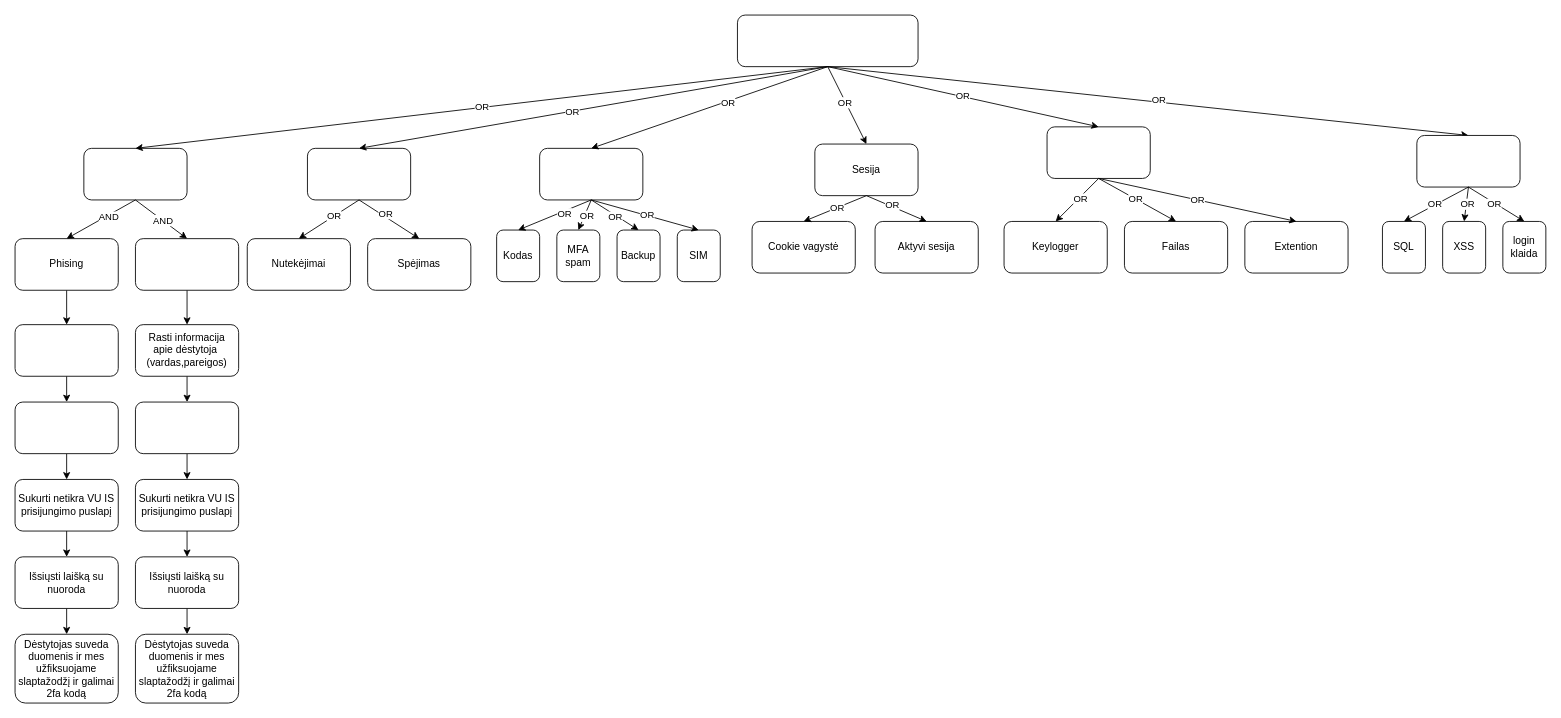
This 1561x718 diagram has some shape labels left out. Each missing label, with the centre of its shape:
"2FA apeinimas" belongs at point (591, 173).
"Apsimetimas VU IT darbuotoju" belongs at point (187, 264).
"Parengti įtikimą laišką(pvz atnaujinti slaptažodi)" belongs at point (66, 427).
"Prisijungti prie VU IS dėstytojo teisėmis" belongs at point (827, 40).
"Rasti Dėstytojo/-os el.paštą per socialinius tiklus ir pan" belongs at point (66, 350).
"Sistema" belongs at point (1468, 161).
"Slaptažodis" belongs at point (359, 173).
"Socialinė inžinerija" belongs at point (135, 173).
"Susisiekti per telefono numeri, el.paštu" belongs at point (187, 427).
"Įrenginys" belongs at point (1098, 152).
